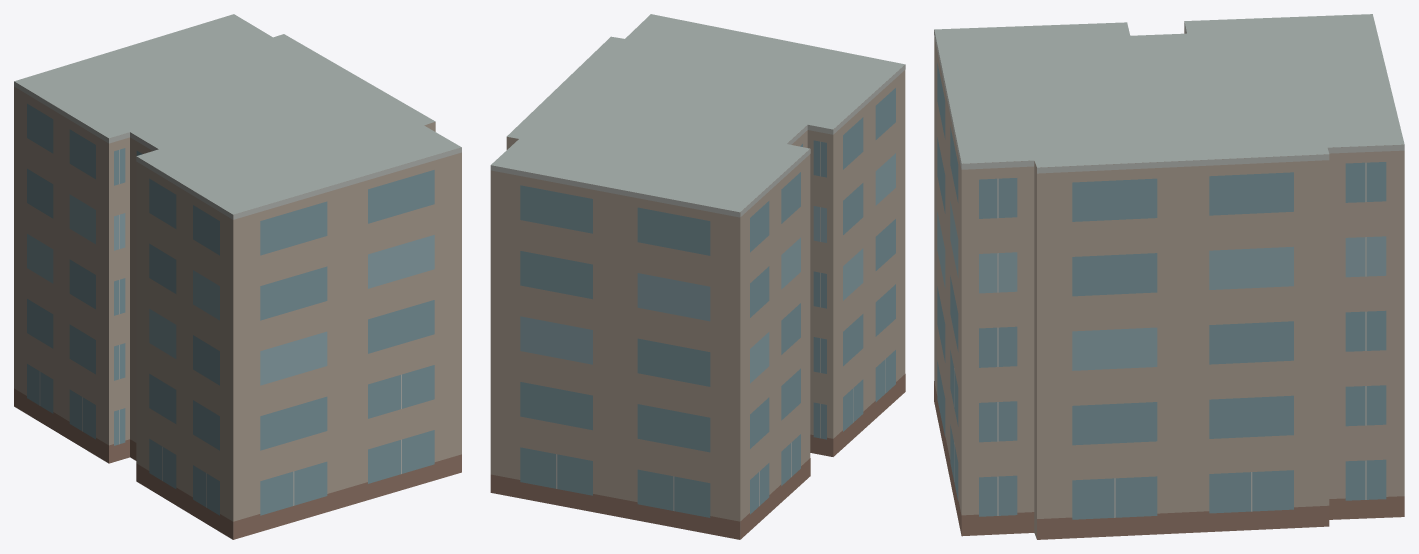
The model's file is survey-upis-33019881.glb.
The picture shows the model from 3 angles, left to right: view 1: azimuth 30°, elevation 25°; view 2: azimuth 150°, elevation 25°; view 3: azimuth 270°, elevation 25°; orthographic projection. The views are drawn at different scales.
Visible parts, largest first — view 1: survey-upis-33019881.tmp; view 2: survey-upis-33019881.tmp; view 3: survey-upis-33019881.tmp.
Boxes of the visible parts, bbox=[...] form: survey-upis-33019881.tmp: bbox=[14, 14, 461, 539]; survey-upis-33019881.tmp: bbox=[490, 14, 905, 539]; survey-upis-33019881.tmp: bbox=[934, 14, 1404, 539].
Size of the model in its own units: 13.5 by 15.25 by 17.48.
